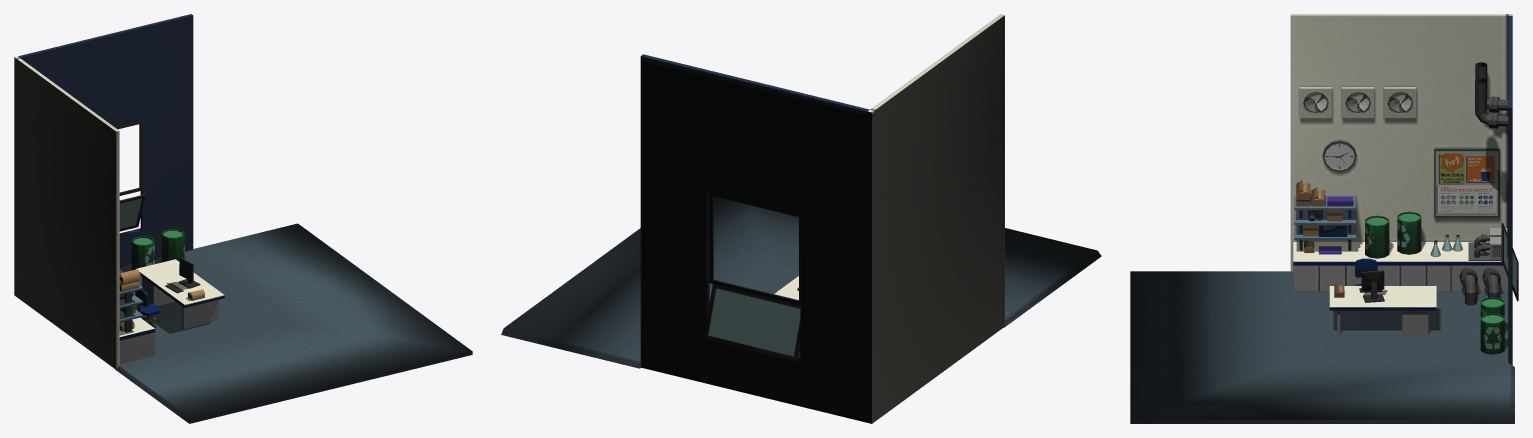
File: Tx_Interior_Work_Garbage&WastePlant.fbx
3 renders of one model, left to right at view 1: azimuth 30°, elevation 25°; view 2: azimuth 150°, elevation 25°; view 3: azimuth 270°, elevation 25°, orthographic. The views are drawn at different scales.
Parts seen in each view (by area): view 1: whole_group2; view 2: whole_group2; view 3: whole_group2.
Boxes of the visible parts, <box> form: whole_group2: <box>14,14,472,423</box>; whole_group2: <box>501,14,1101,423</box>; whole_group2: <box>1130,14,1518,423</box>.
Size of the model in its own units: 36.4 by 29.28 by 39.71.
Materials: 1 (1 with a texture image).
